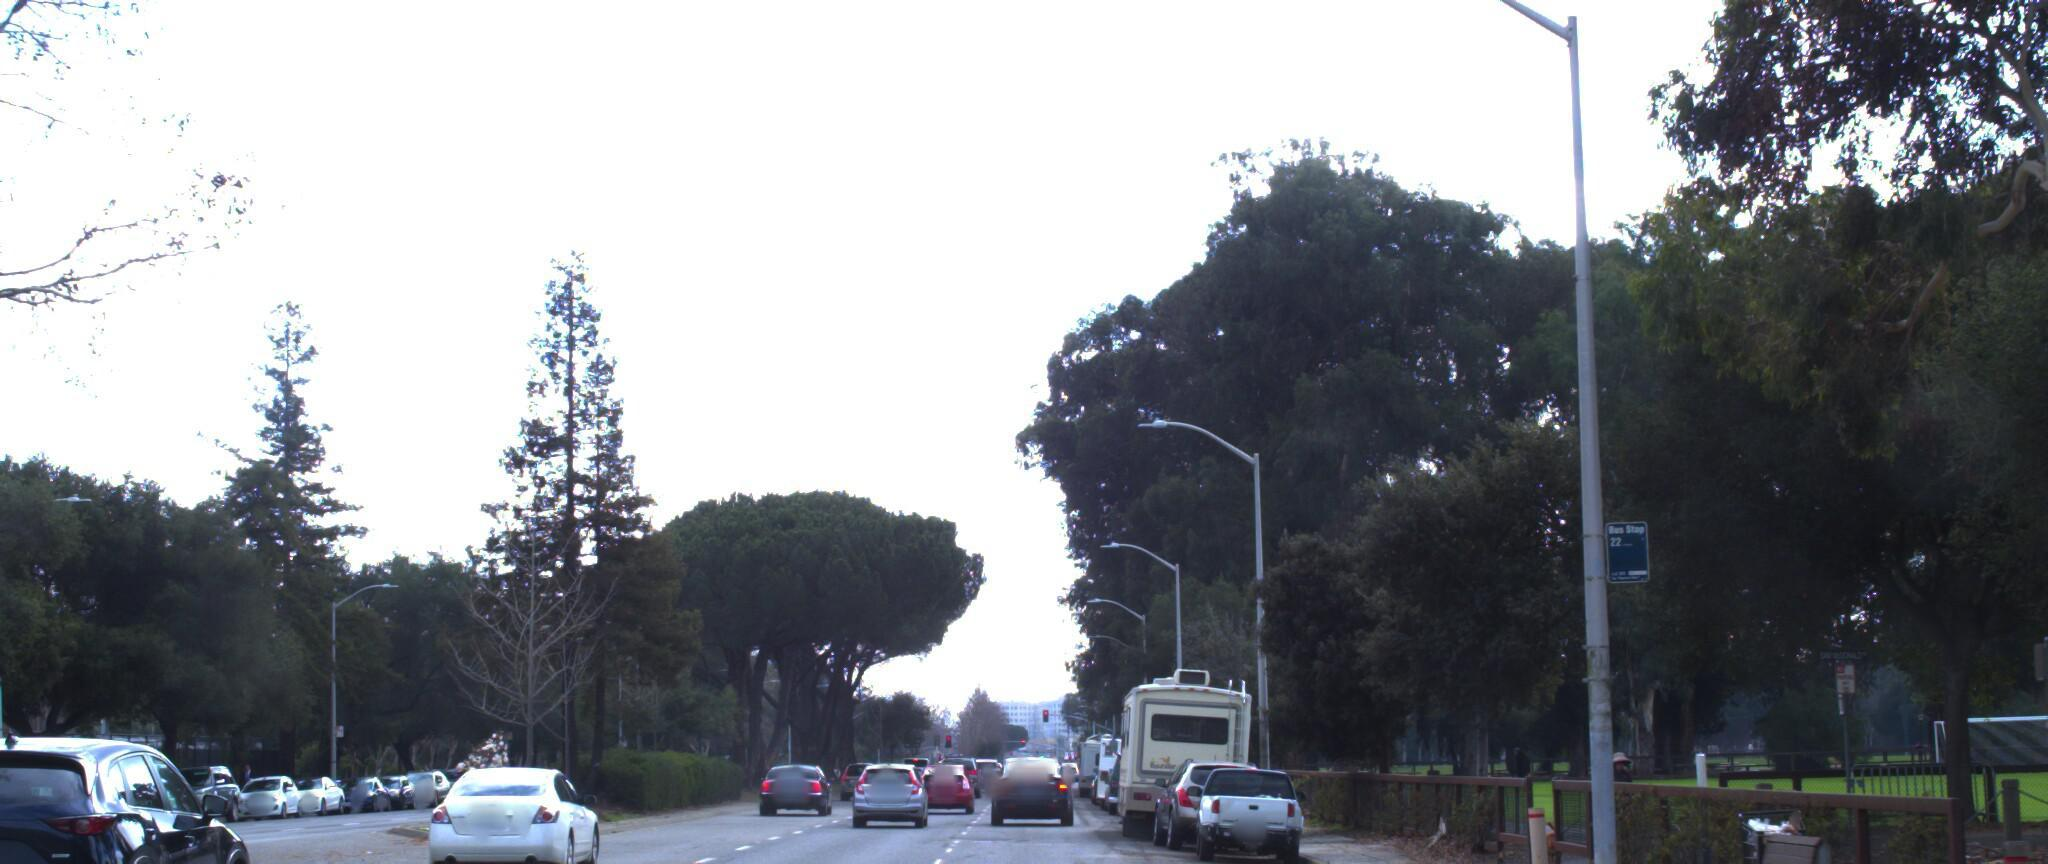car: (424, 737, 606, 864), (1143, 724, 1272, 830), (1183, 737, 1304, 848), (839, 737, 939, 814), (990, 743, 1078, 817)
other_vehicle: (1106, 643, 1263, 816)
